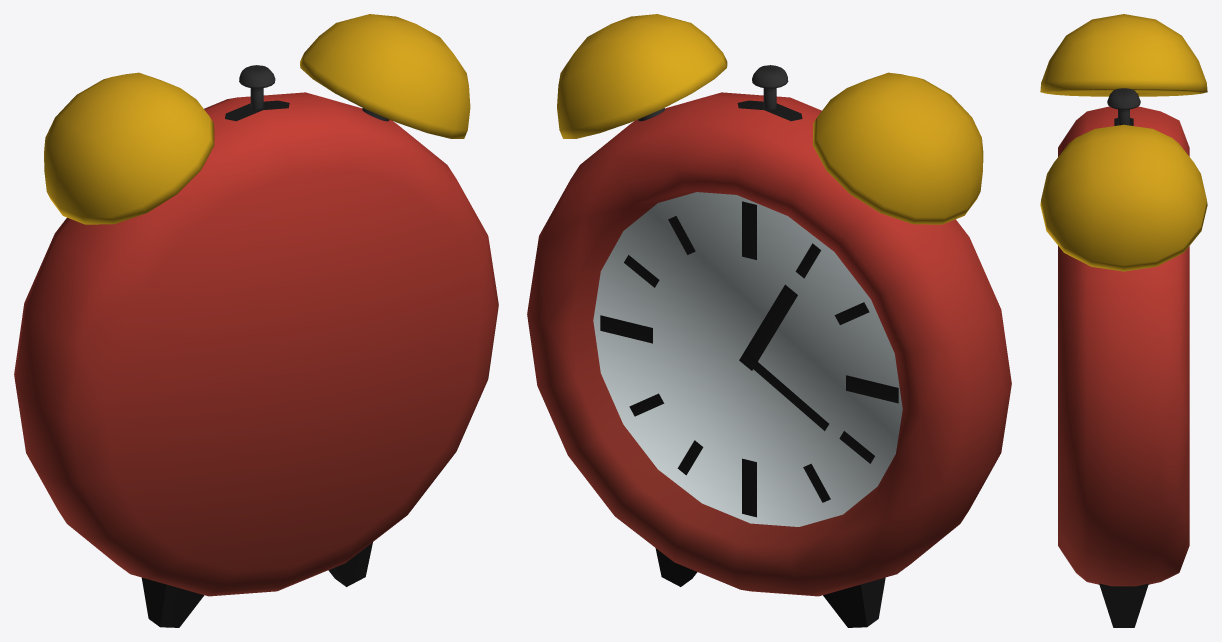
The model's file is Clock.fbx.
3 views of the same model, side by side, from view 1: azimuth 30°, elevation 25°; view 2: azimuth 150°, elevation 25°; view 3: azimuth 270°, elevation 25° (orthographic). The views are drawn at different scales.
Parts seen in each view (by area): view 1: Clock; view 2: Clock; view 3: Clock.
Part boxes in pixels (x1,y1,x2,y2): Clock: (14,14,498,627); Clock: (527,14,1011,627); Clock: (1040,14,1207,627).
Bounding box in the file's own units: 194 × 225 × 66.86.
